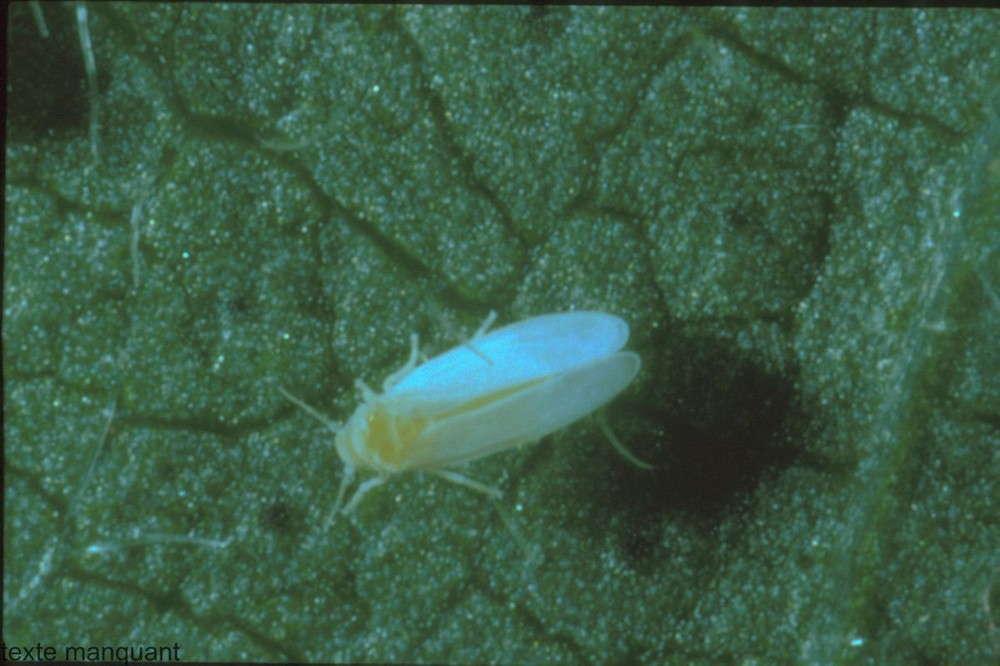Mosca Blanca: (263, 287, 670, 535)
